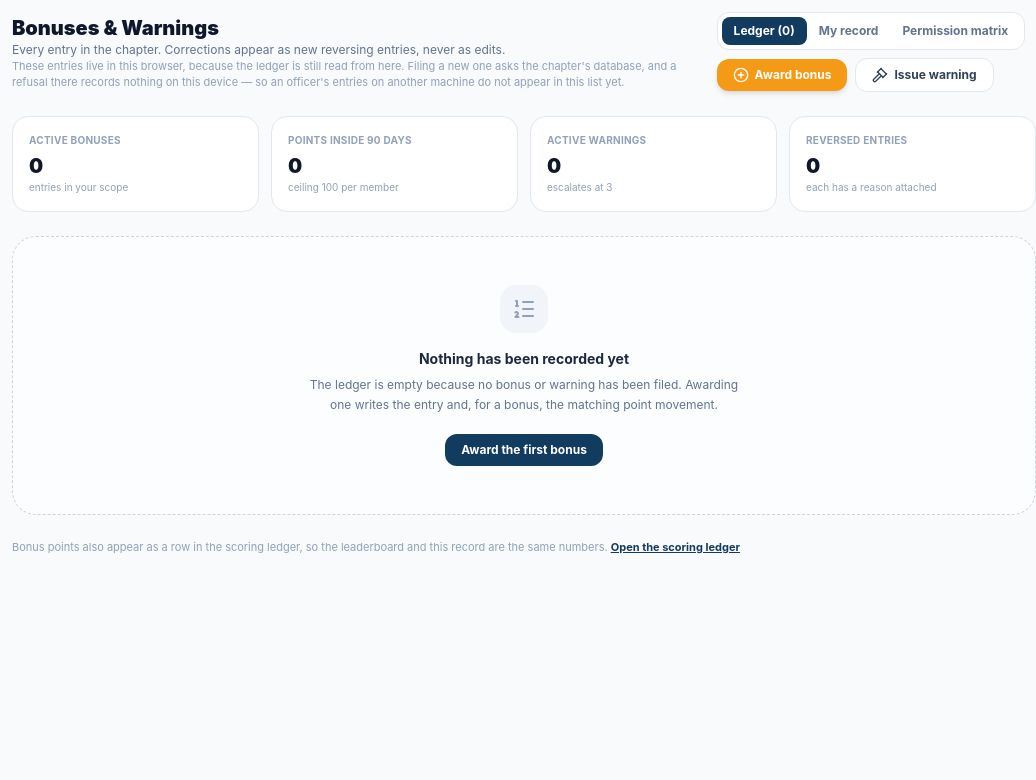
Test: the permission matrix on screen › refuses a cap it cannot honour and keeps the stored default
expect the heading "Bonuses & Warnings" is shown: met, box [12,16,219,40]
Click the button "Permission matrix".
click(955, 31)  # box [890,17,1020,45]
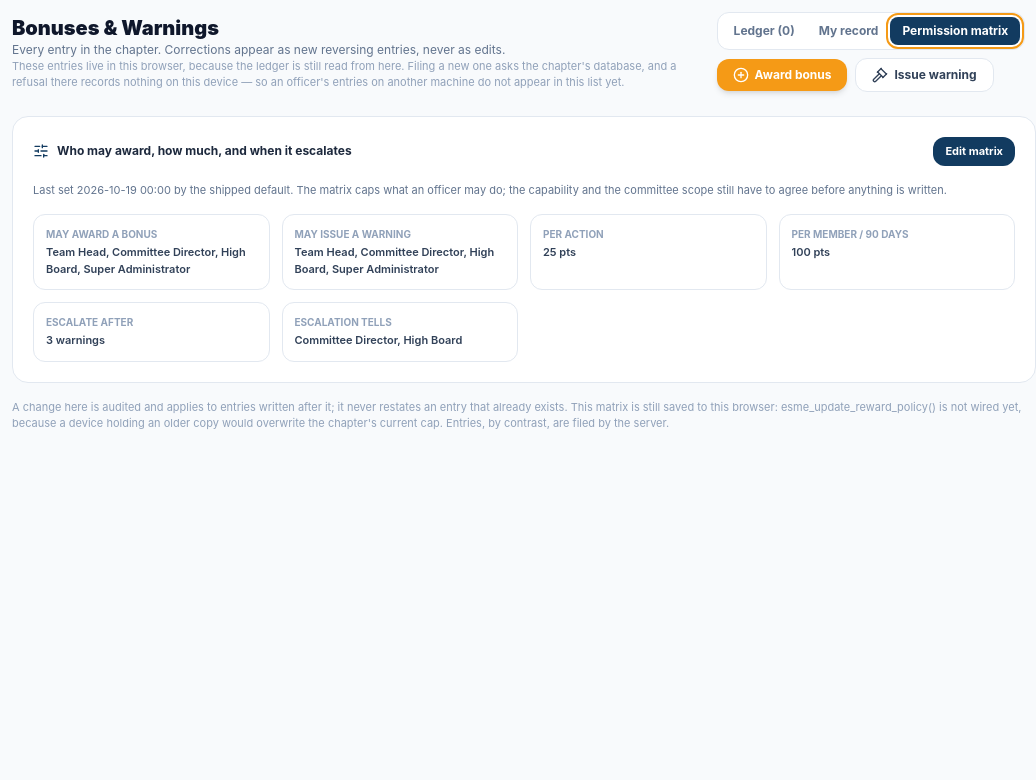
expect the field labelled "Maximum points per action" is not shown: met
expect the text "Who may award, how much, and when it escalates" is shown: met, box [33,143,352,159]
Click the button "Edit matrix".
click(974, 151)  # box [933,137,1015,166]
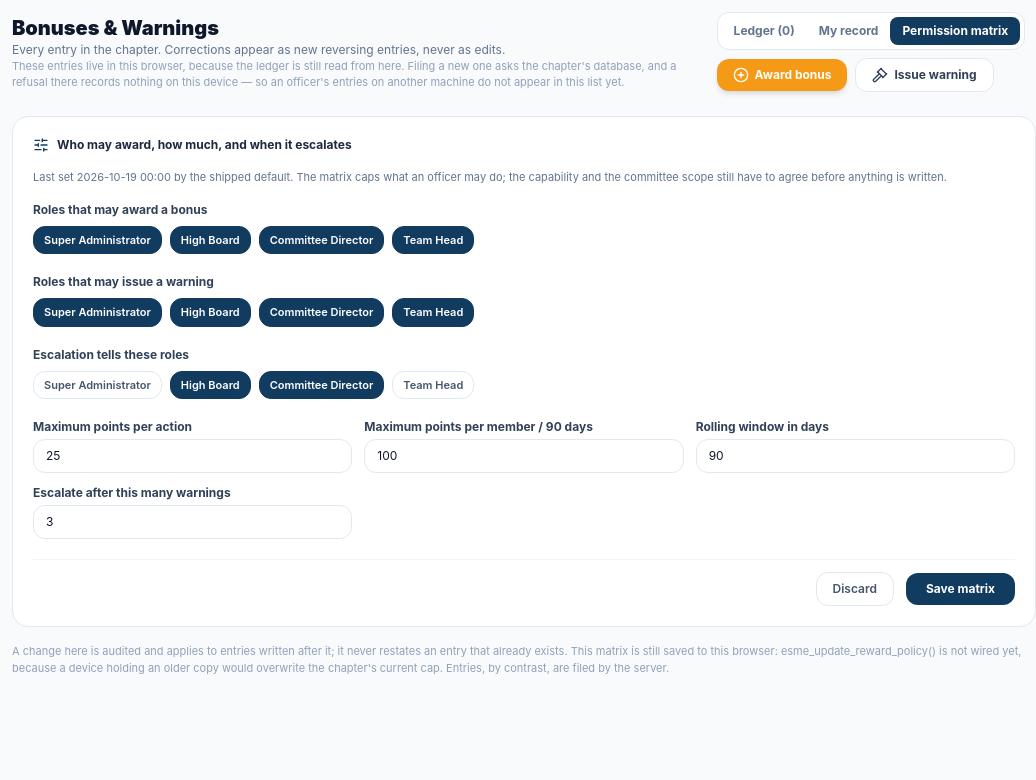
Replace the text in the number field named "Maximum points per action" with "0" at coordinates (193, 456), box [33,440,352,474]
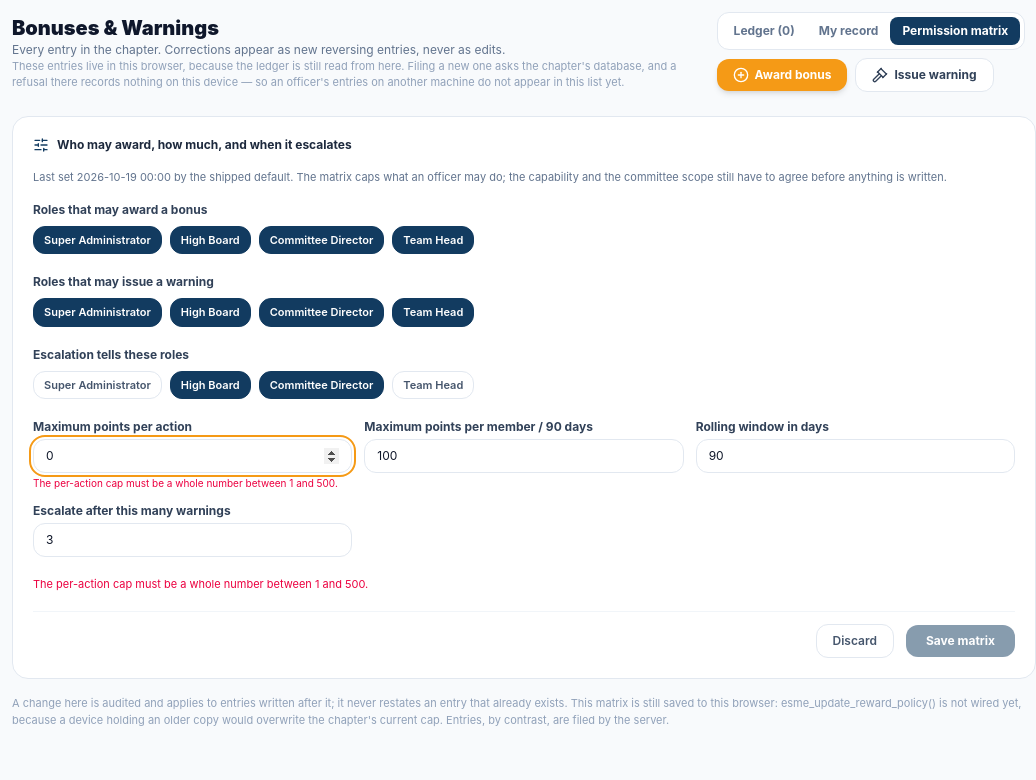
expect the text "The per-action cap must be a whole number between 1 and 500." is shown: met, box [33,478,352,491]
Replace the text in the number field named "Maximum points per action" with "40" at coordinates (193, 456), box [33,440,352,474]
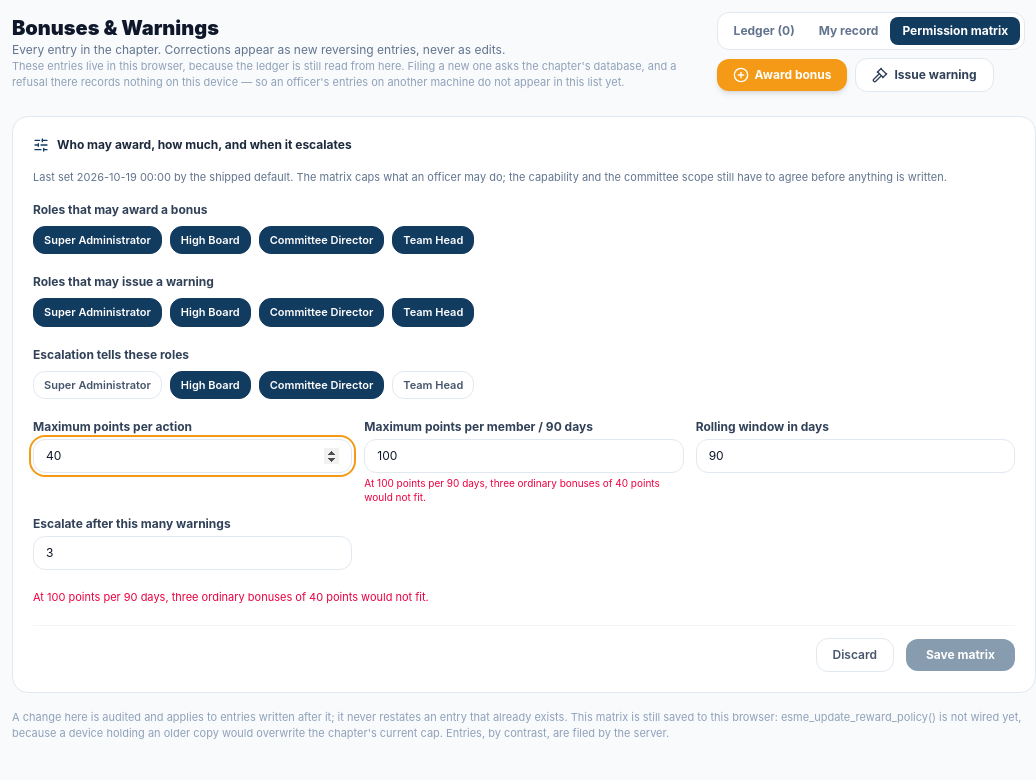
Replace the text in the number field named "Maximum points per member" with "120" at coordinates (524, 456), box [364,440,684,474]
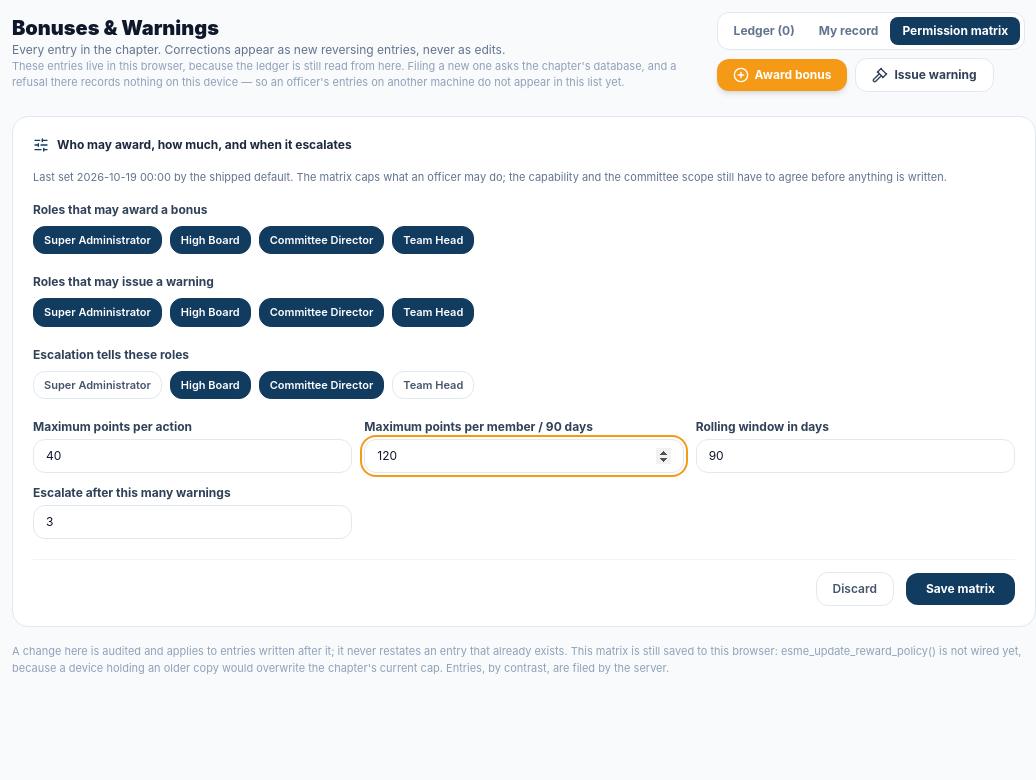
Click the button "Save matrix".
click(960, 590)  # box [906,574,1015,606]
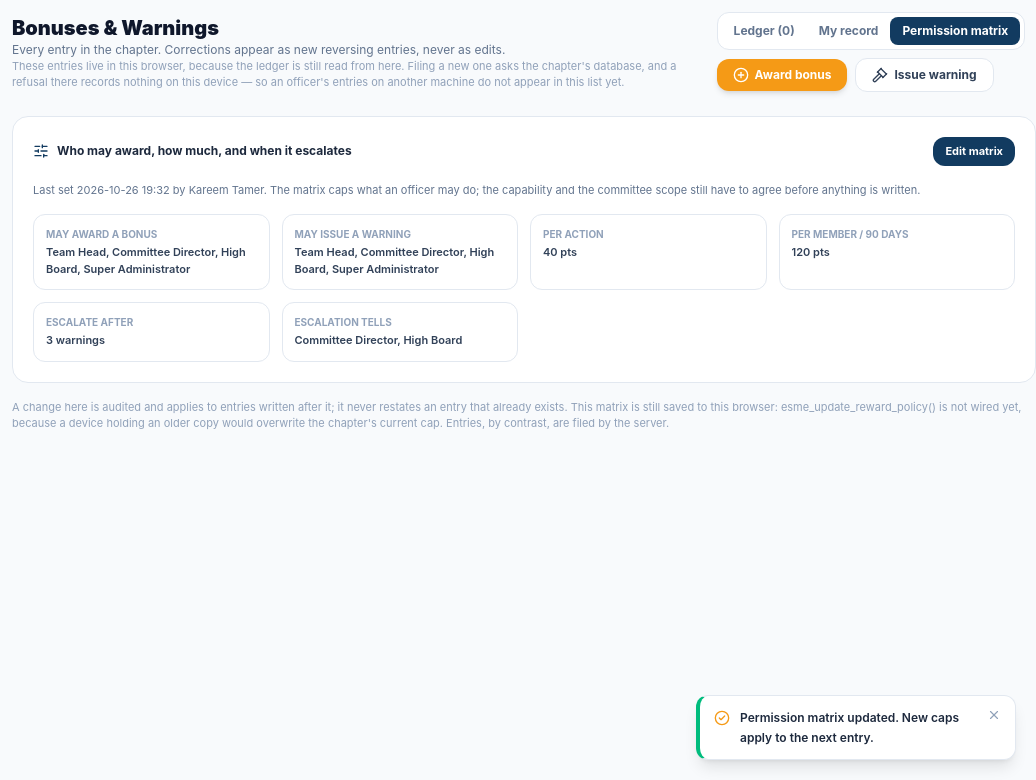
expect the text "Permission matrix updated. New caps apply to the next entry." is shown: met, box [740,708,977,747]
